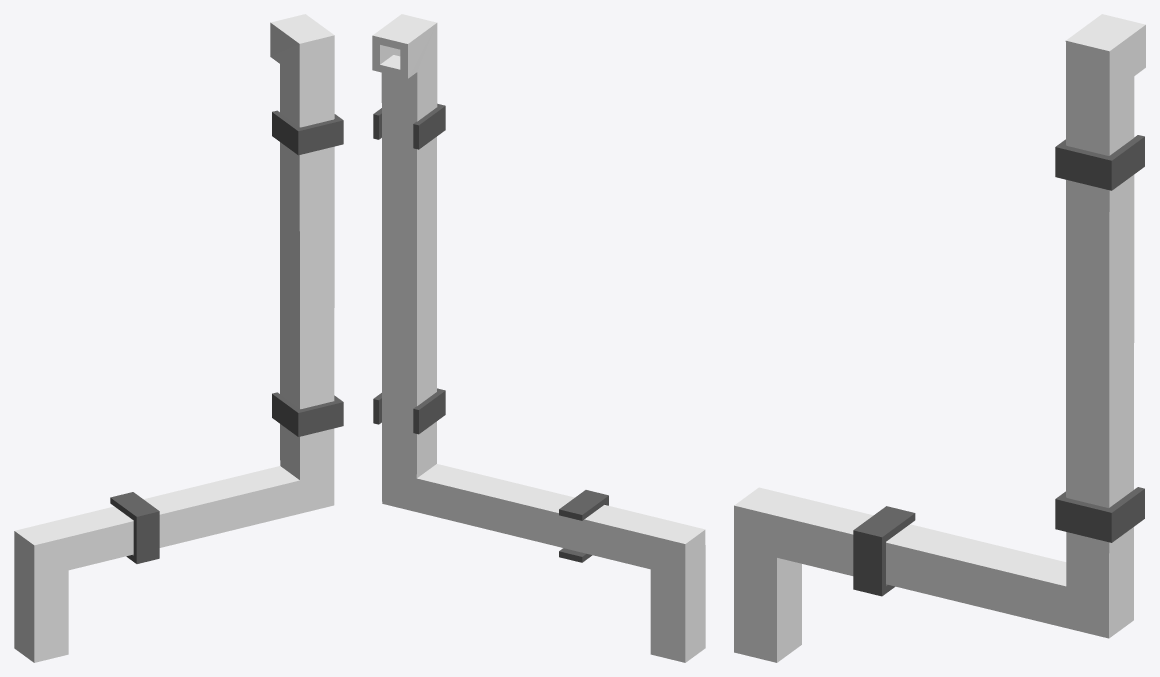
File: Dest_PoisonFactory_Pipe1.FBX
The picture shows the model from 3 angles, left to right: view 1: azimuth 30°, elevation 25°; view 2: azimuth 150°, elevation 25°; view 3: azimuth 330°, elevation 25°; orthographic projection. The views are drawn at different scales.
Visible parts, largest first — view 1: Box002; view 2: Box002; view 3: Box002.
Boxes of the visible parts, bbox=[...] form: Box002: bbox=[14, 14, 343, 662]; Box002: bbox=[372, 14, 705, 662]; Box002: bbox=[734, 14, 1145, 662].
Size of the model in its own units: 35.52 by 61.52 by 6.58.
